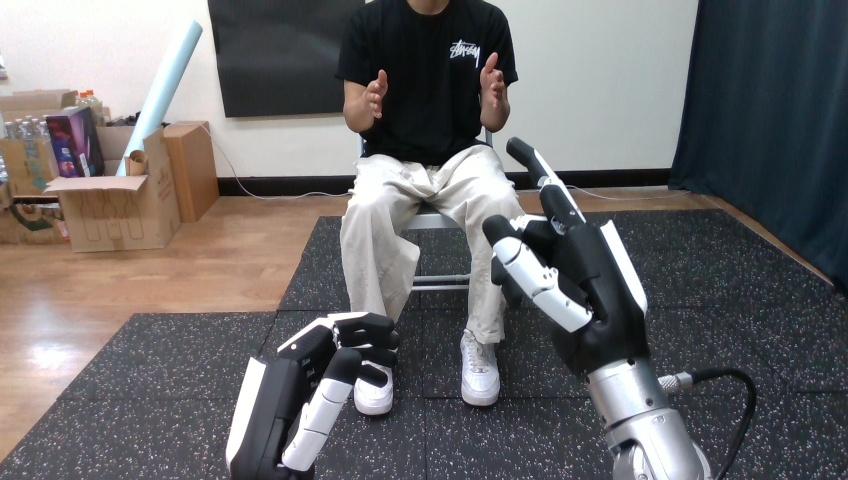left robot hand: (482, 137, 755, 479), (226, 312, 398, 479)
